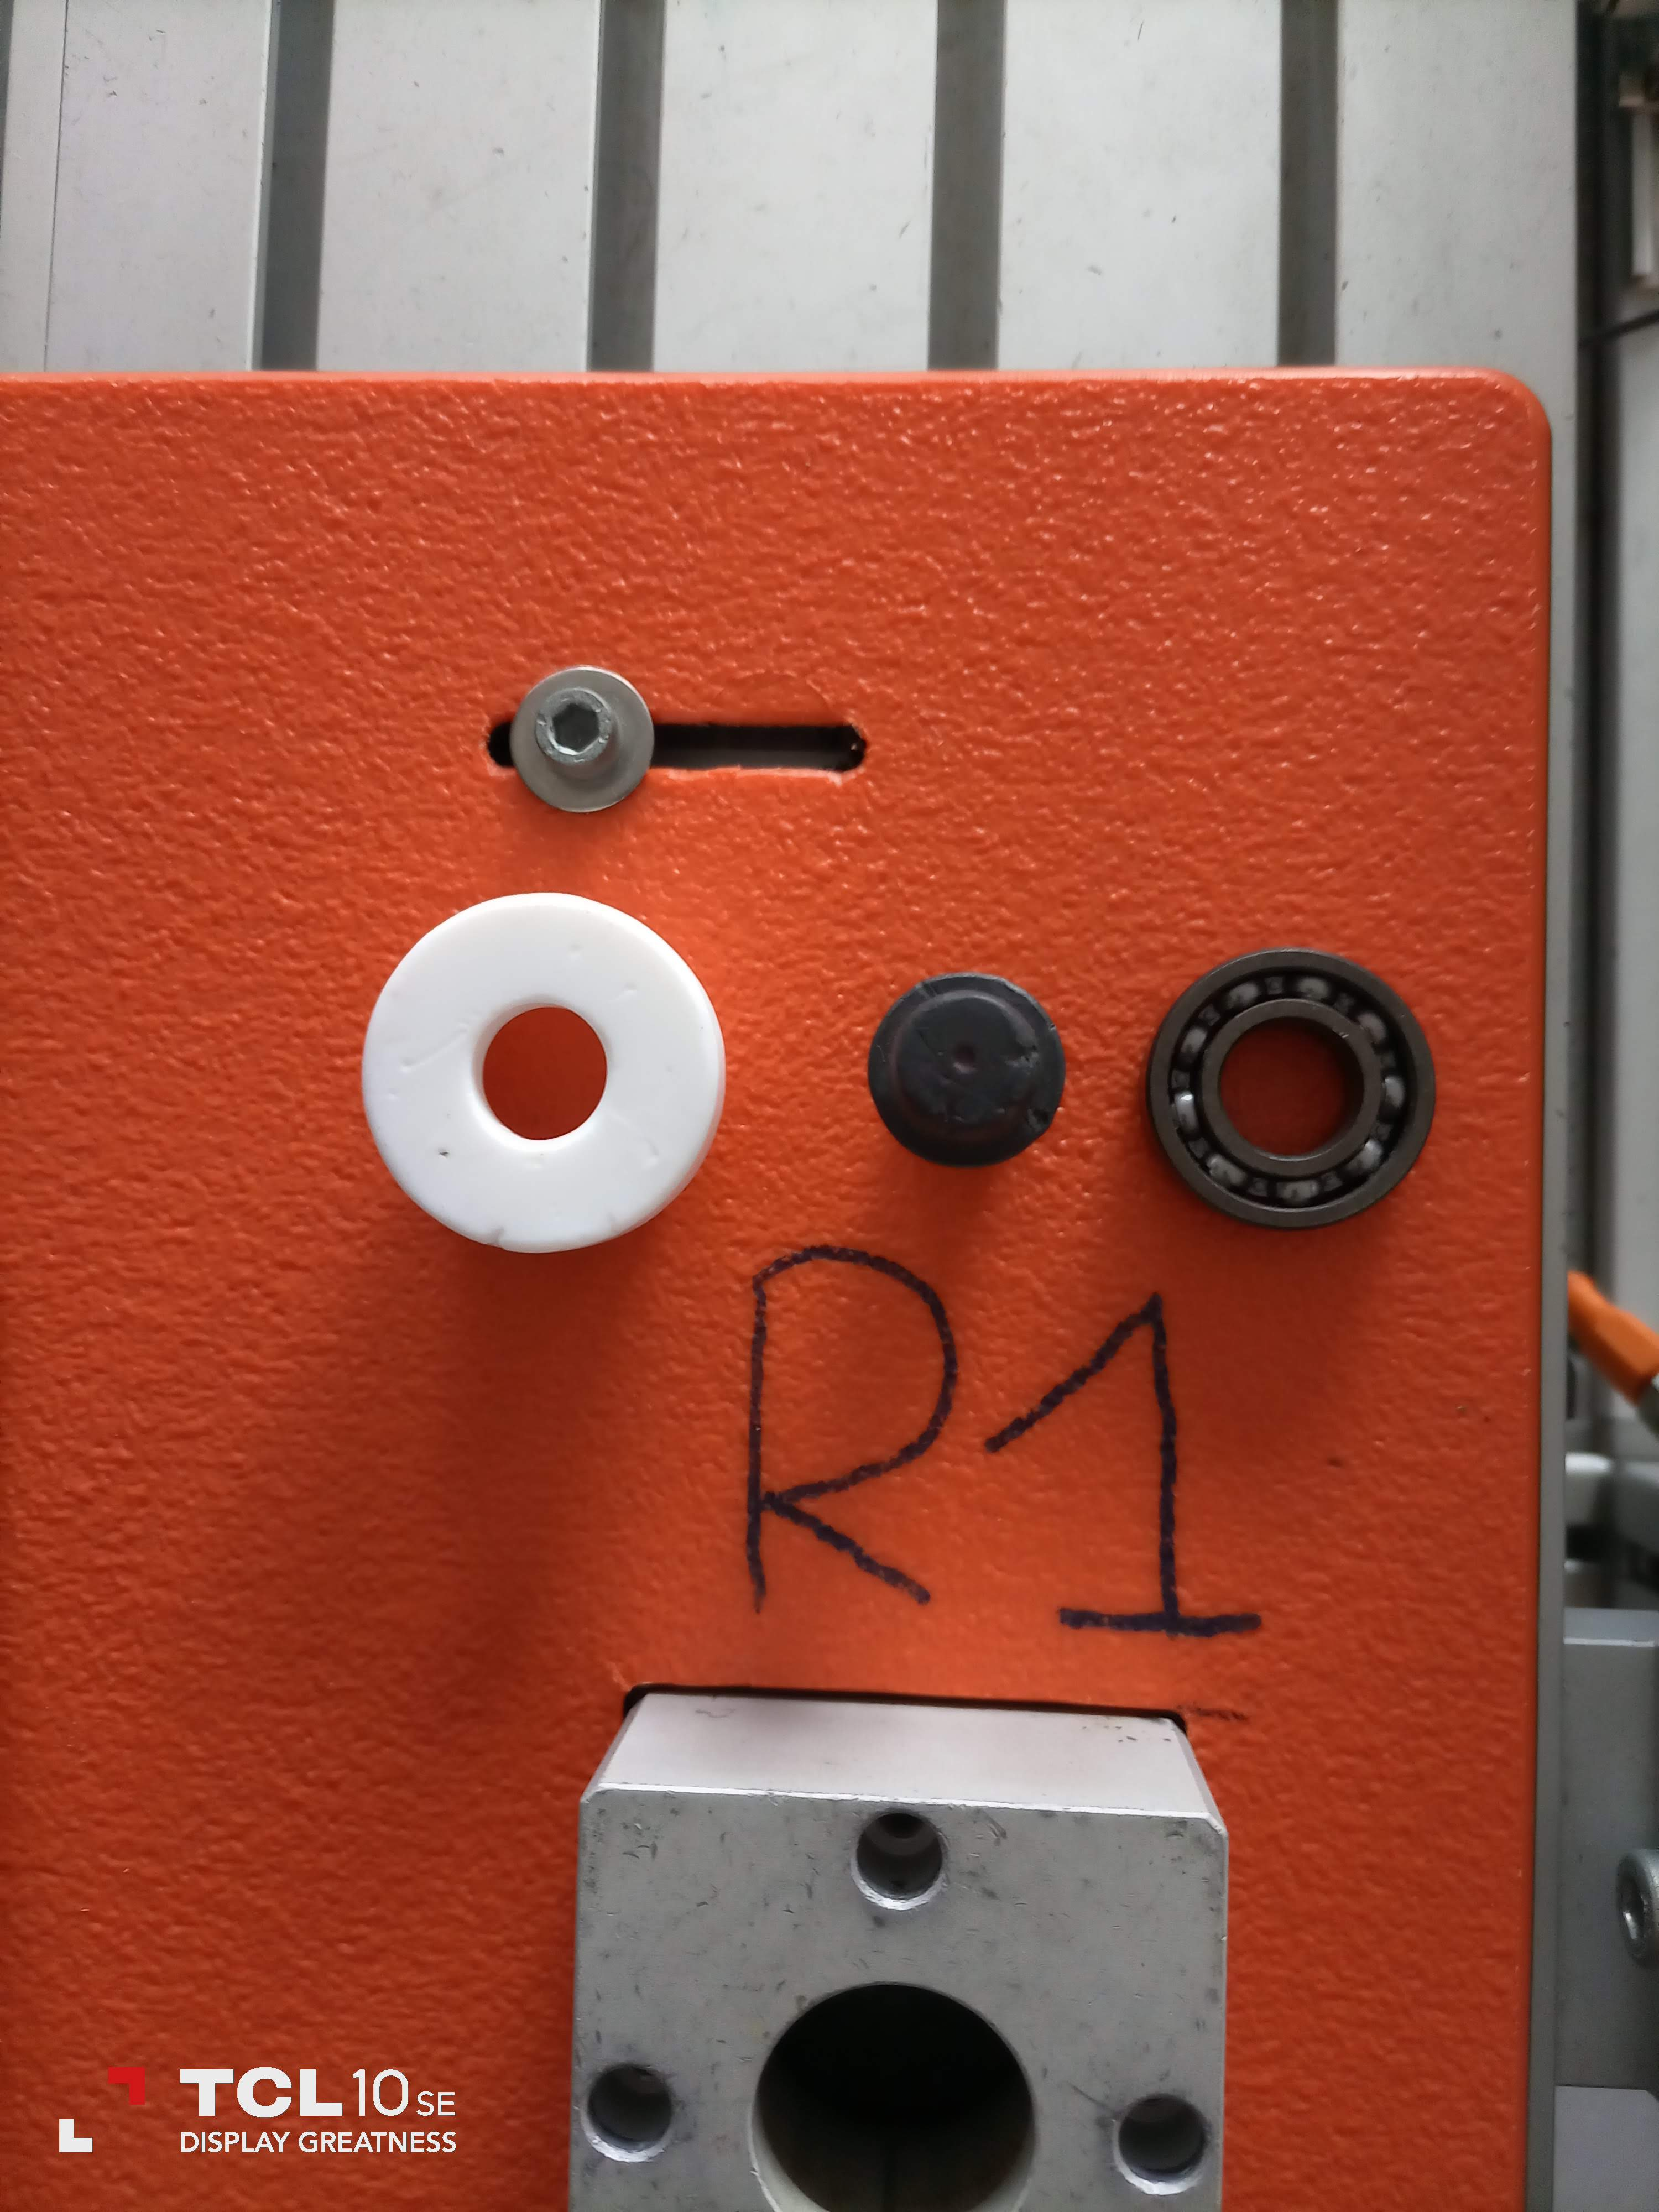Ardatza: (856, 965, 1098, 1169)
Roda: (1131, 951, 1460, 1251)
Tapa: (354, 902, 721, 1252)
